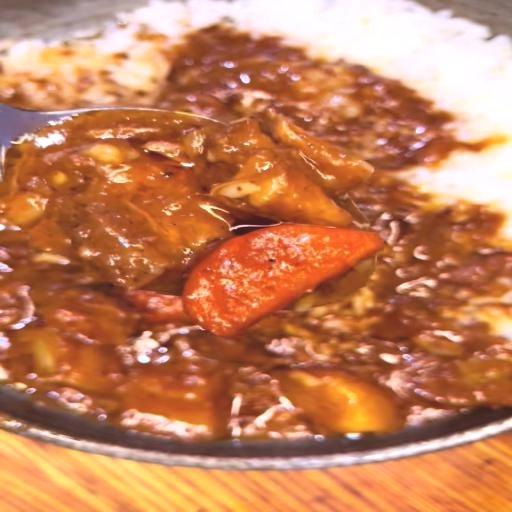pork caldereta: (0, 115, 511, 442)
